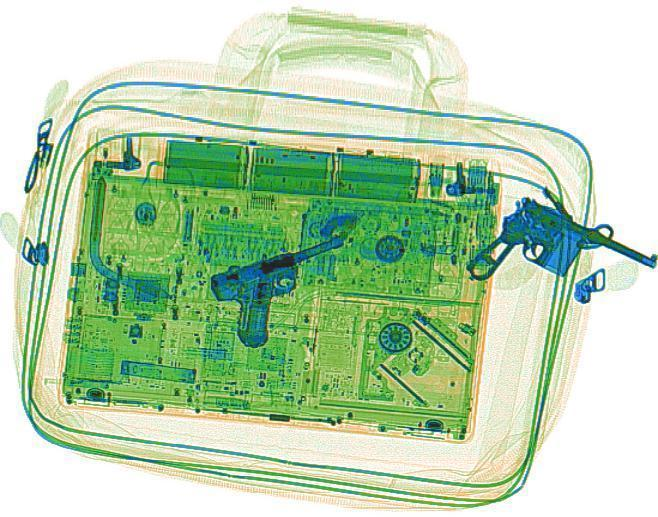Gun: (456, 193, 656, 328), (199, 232, 385, 350)
